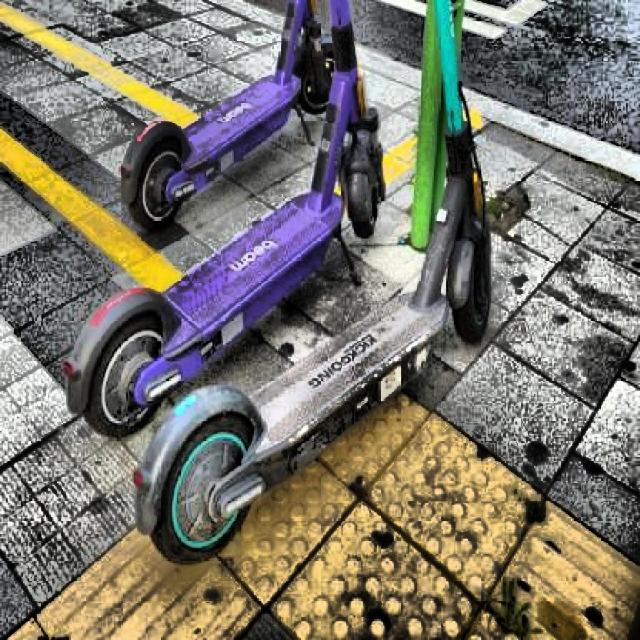bike: (23, 0, 501, 575), (118, 0, 435, 236)
